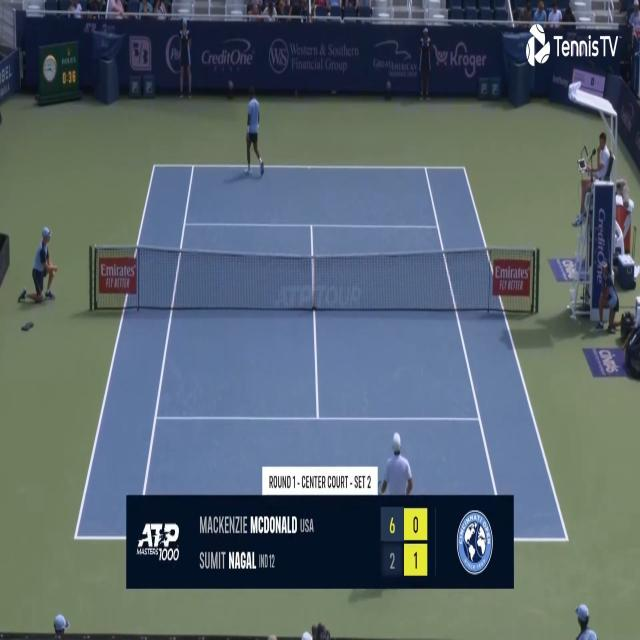tennis-player: (379, 431, 414, 499), (242, 84, 266, 179)
